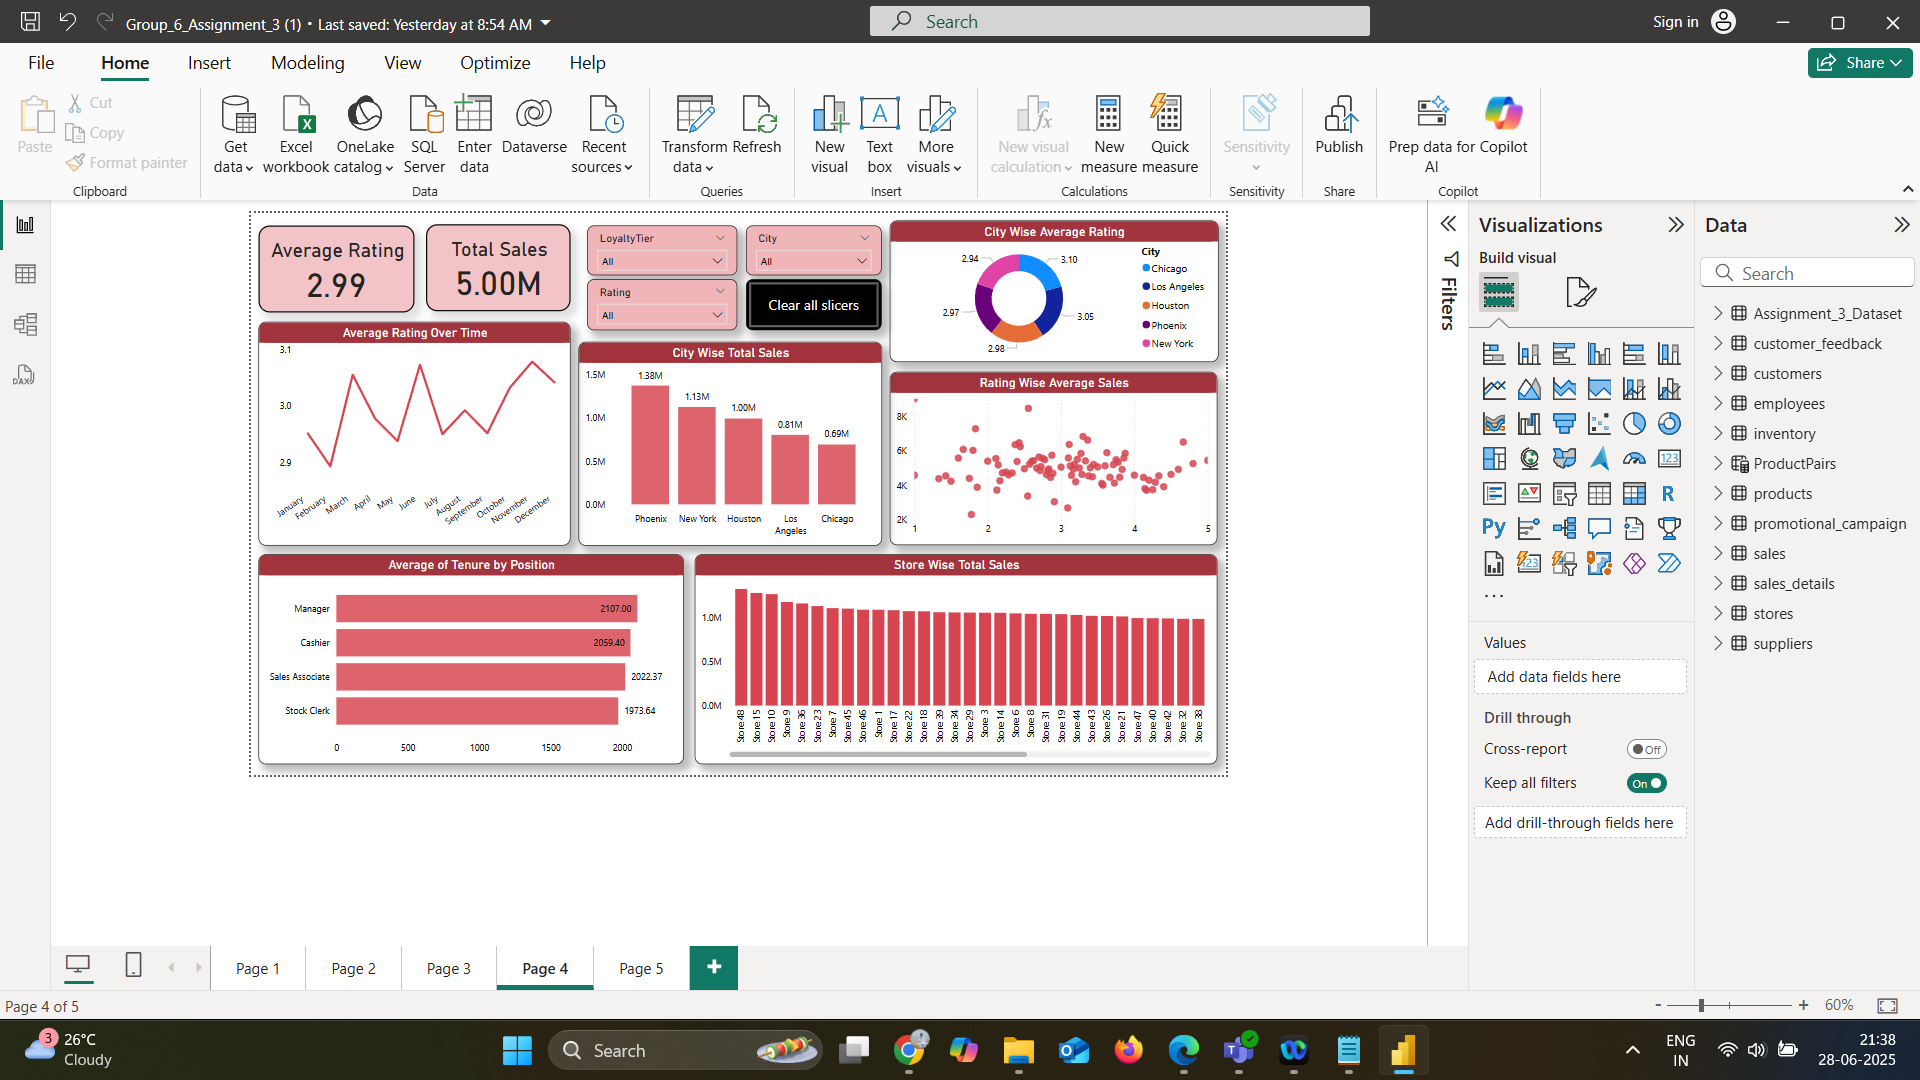

The page's visual inventory and layout, read from the dashboard file:
{"tool":"powerbi","page":{"name":"Page 4","canvas":[1300,750],"ordinal":3},"visuals":[{"type":"scatterChart","title":"Rating Wise Average Sales","fields":{"X":["customers.Avg Rating"],"Y":["Avg(customers.Total Sales)"]},"box":[851.4,211.4,437.1,231.4],"z":0},{"type":"clusteredColumnChart","title":"City Wise Total Sales","fields":{"Y":["sales.TotalSales"],"Category":["stores.City"]},"box":[436,171,405,272],"z":1000},{"type":"donutChart","title":"City Wise Average Rating","fields":{"Category":["stores.City"],"Y":["stores.avg rating"]},"box":[851,10,438,189],"z":2000},{"type":"card","title":"Total Sales","fields":{"Values":["sales.TotalSales"]},"box":[232.9,15.7,192.9,115.7],"z":3000},{"type":"card","title":"Average Rating","fields":{"Values":["stores.avg rating"]},"box":[10,16,208,116],"z":4000},{"type":"slicer","fields":{"Values":["customers.LoyaltyTier"]},"box":[449,16,200,66],"z":5000},{"type":"slicer","fields":{"Values":["stores.City"]},"box":[660,16,181,66],"z":6000},{"type":"slicer","fields":{"Values":["customer_feedback.Rating"]},"box":[449,89,200,68],"z":7000},{"type":"lineChart","title":"Average Rating Over Time","fields":{"Y":["Avg(customer_feedback.Rating)"],"Category":["customer_feedback.ResponseDate.Variation.Date Hierarchy.Month","customer_feedback.ResponseDate.Variation.Date Hierarchy.Day"]},"box":[10,145,416,298],"z":8000},{"type":"actionButton","box":[660,89,181,68],"z":9000},{"type":"barChart","fields":{"Category":["employees.Position"],"Y":["Avg(employees.Tenure)"]},"box":[10,454.3,567.1,280],"z":10000},{"type":"clusteredColumnChart","title":"Store Wise Total Sales","fields":{"Category":["stores.StoreName"],"Y":["sales_details.Total Sales"]},"box":[591.4,454.3,697.1,280],"z":11000}]}

Visuals, with their boxes on the page's 1300x750 design canvas (x1, y1, x2, y2). These are canvas units, not pixel positions in the 1920x1080 screenshot, which may show the page scaled, cropped or inside an application window:
"Rating Wise Average Sales" scatterChart: bbox=[851, 211, 1288, 443]
"City Wise Total Sales" clusteredColumnChart: bbox=[436, 171, 841, 443]
"City Wise Average Rating" donutChart: bbox=[851, 10, 1289, 199]
"Total Sales" card: bbox=[233, 16, 426, 131]
"Average Rating" card: bbox=[10, 16, 218, 132]
slicer - customers.LoyaltyTier: bbox=[449, 16, 649, 82]
slicer - stores.City: bbox=[660, 16, 841, 82]
slicer - customer_feedback.Rating: bbox=[449, 89, 649, 157]
"Average Rating Over Time" lineChart: bbox=[10, 145, 426, 443]
actionButton: bbox=[660, 89, 841, 157]
barChart - employees.Position x Avg(employees.Tenure): bbox=[10, 454, 577, 734]
"Store Wise Total Sales" clusteredColumnChart: bbox=[591, 454, 1288, 734]
